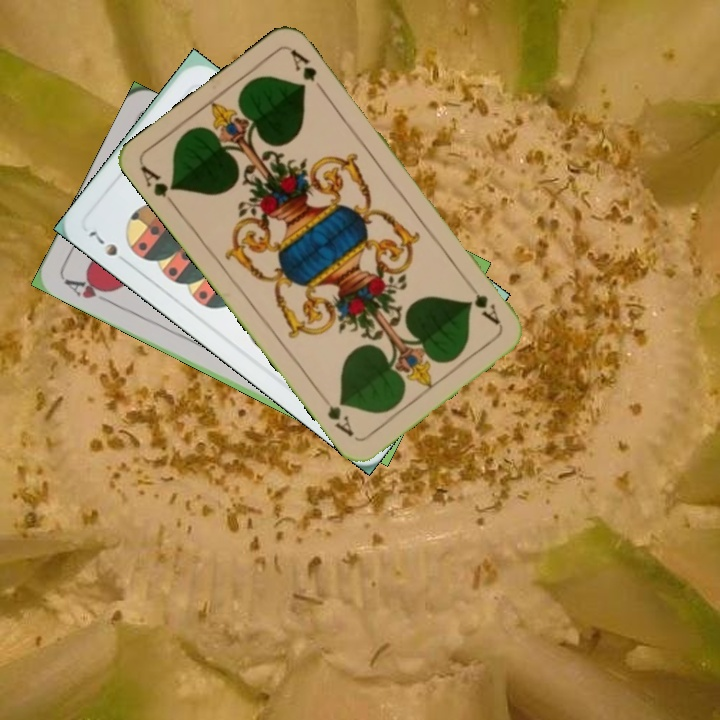GA: (137, 161, 180, 212), (462, 277, 504, 328)
HA: (60, 274, 117, 307)
S7: (84, 227, 133, 268)
